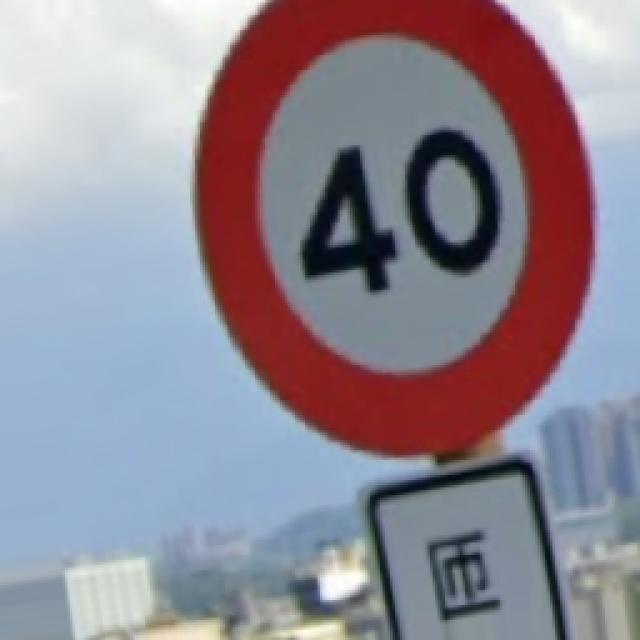Speed Limit -40-: (198, 0, 590, 452)
